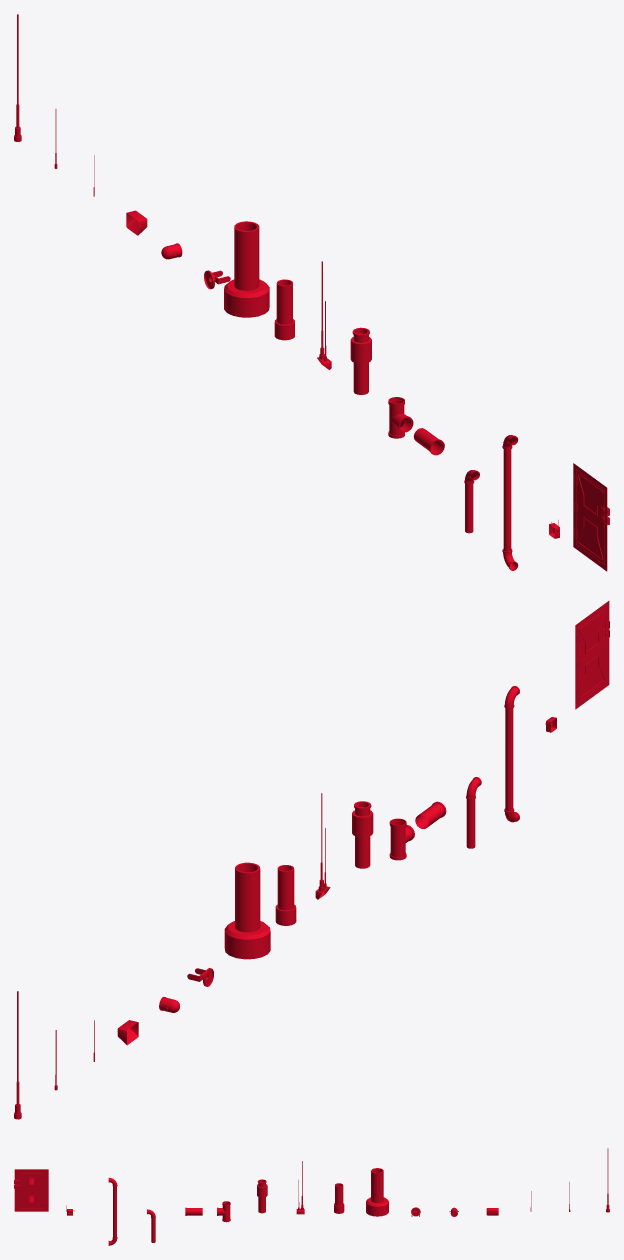
File: SM_Common_Pieces.fbx
3 renders of one model, top to bottom at view 1: azimuth 30°, elevation 25°; view 2: azimuth 150°, elevation 25°; view 3: azimuth 270°, elevation 25°, orthographic. The views are drawn at different scales.
Visible parts, largest first — view 1: Large_Chimney, Door, Long_Pipe, Exhaust_Pipe, Chimney, T_Joint; view 2: Large_Chimney, Door, Long_Pipe, Exhaust_Pipe, Chimney, T_Joint, Elbow_Pipe; view 3: Door, Large_Chimney, Long_Pipe, Exhaust_Pipe, Chimney, T_Joint, Elbow_Pipe.
Part boxes in pixels (left/top/right/bottom): Large_Chimney: left=224, top=221, right=269, bottom=317; Door: left=573, top=463, right=609, bottom=571; Long_Pipe: left=502, top=435, right=518, bottom=570; Exhaust_Pipe: left=350, top=327, right=371, bottom=394; Chimney: left=274, top=279, right=294, bottom=340; T_Joint: left=388, top=397, right=413, bottom=438; Large_Chimney: left=224, top=862, right=270, bottom=959; Door: left=575, top=601, right=609, bottom=709; Long_Pipe: left=504, top=686, right=519, bottom=822; Exhaust_Pipe: left=352, top=801, right=373, bottom=868; Chimney: left=275, top=865, right=296, bottom=925; T_Joint: left=389, top=818, right=414, bottom=860; Elbow_Pipe: left=466, top=777, right=481, bottom=848; Door: left=14, top=1169, right=48, bottom=1211; Large_Chimney: left=366, top=1168, right=388, bottom=1216; Long_Pipe: left=108, top=1178, right=117, bottom=1245; Exhaust_Pipe: left=257, top=1179, right=267, bottom=1213; Chimney: left=334, top=1183, right=344, bottom=1213; T_Joint: left=217, top=1201, right=230, bottom=1222; Elbow_Pipe: left=147, top=1209, right=155, bottom=1242.
Size of the model in its own units: 3102 by 121 by 559.
